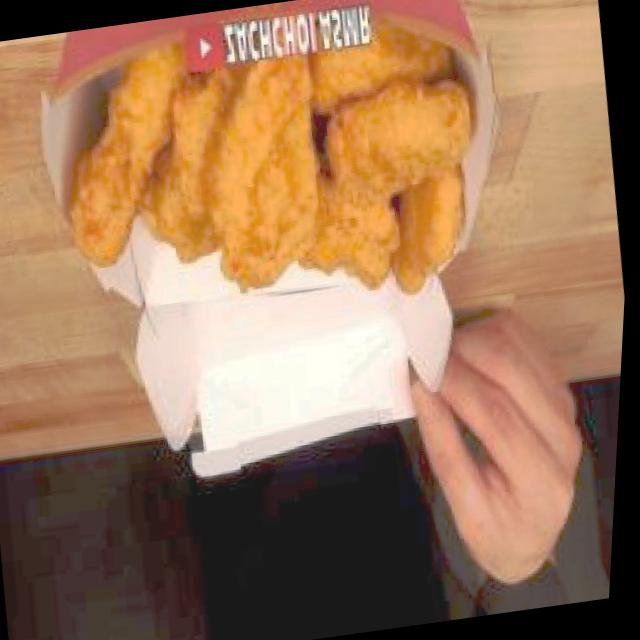chicken_nuggets: (42, 8, 496, 339)
